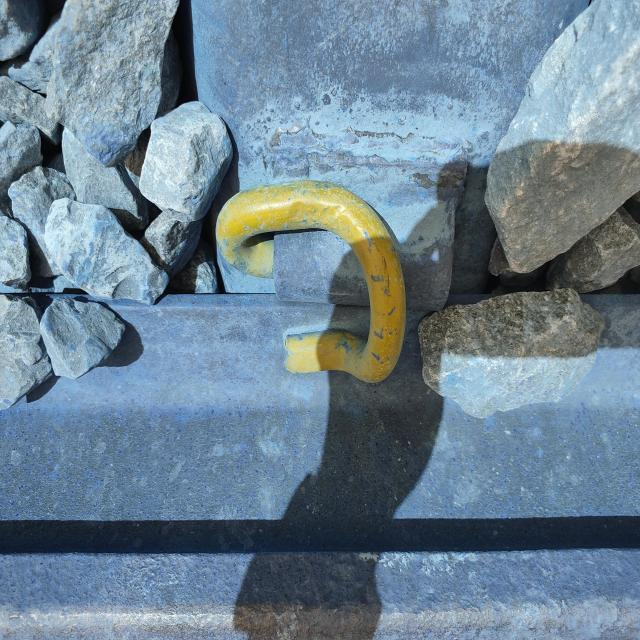Good Fasteners: (217, 112, 484, 407)
